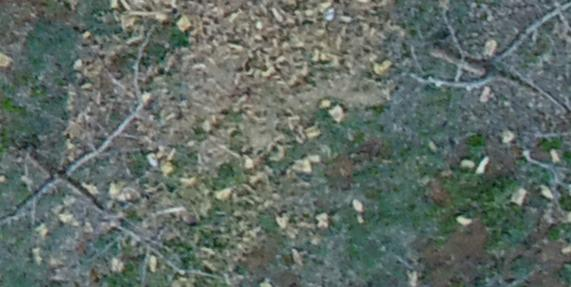apple: (10, 65, 203, 277), (370, 10, 561, 137)
